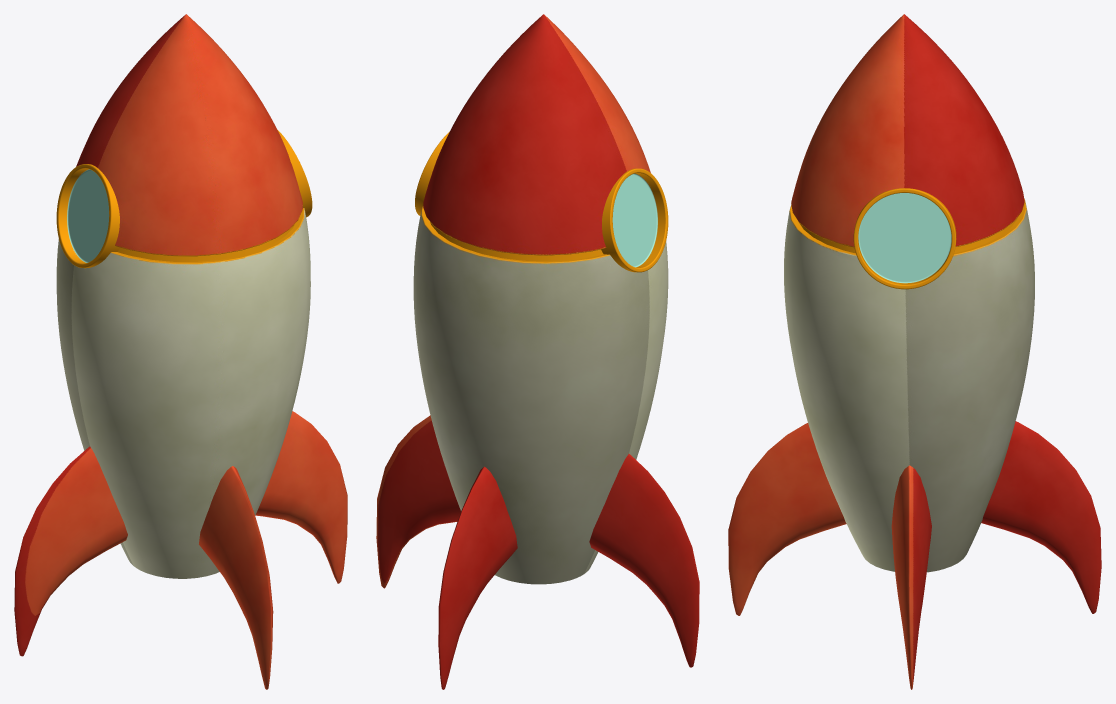
Rendered from Rocket.fbx.
3 views of the same model, side by side, from view 1: azimuth 30°, elevation 25°; view 2: azimuth 150°, elevation 25°; view 3: azimuth 270°, elevation 25° (orthographic).
Visible parts, largest first — view 1: Main_Body_1, Pare_Ha, Mirror1, Mirror2; view 2: Main_Body_1, Pare_Ha, Mirror1, Mirror2; view 3: Main_Body_1, Pare_Ha, Mirror2.
Part boxes in pixels (x1,y1,x2,y2): Main_Body_1: (56,14,310,578); Pare_Ha: (14,411,347,689); Mirror1: (56,164,119,268); Mirror2: (277,130,312,217); Main_Body_1: (413,14,668,584); Pare_Ha: (376,415,699,689); Mirror1: (601,168,668,272); Mirror2: (415,131,449,215); Main_Body_1: (784,14,1034,572); Pare_Ha: (728,421,1101,689); Mirror2: (853,188,956,289).
Bounding box in the file's own units: 225 × 401 × 225.
